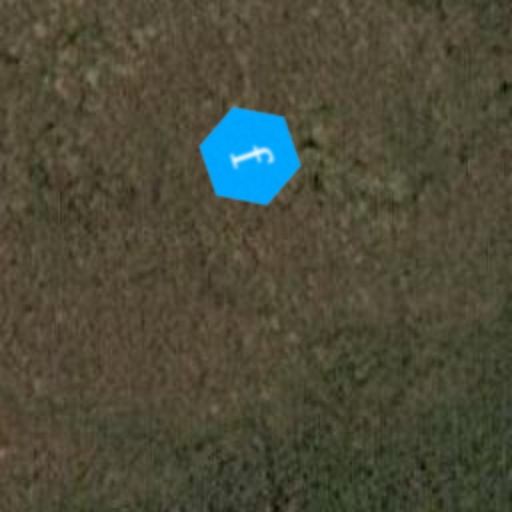hexagon: (182, 88, 318, 224)
